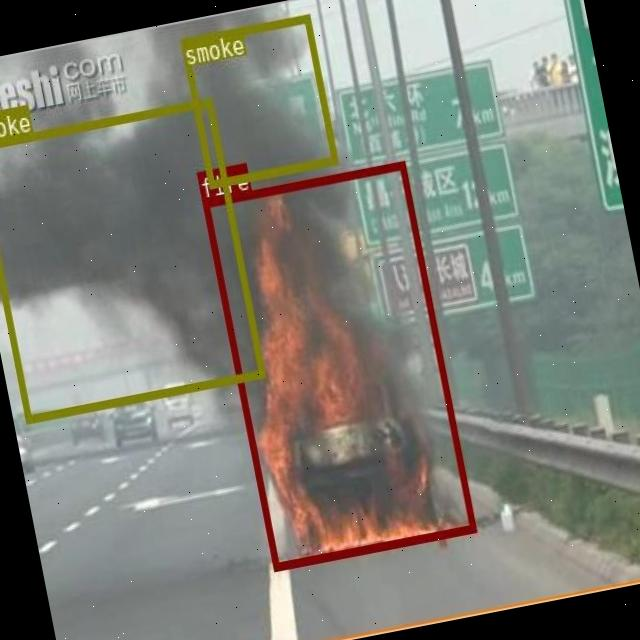fire: (201, 160, 475, 570)
smoke: (0, 98, 263, 421), (180, 12, 338, 186)
